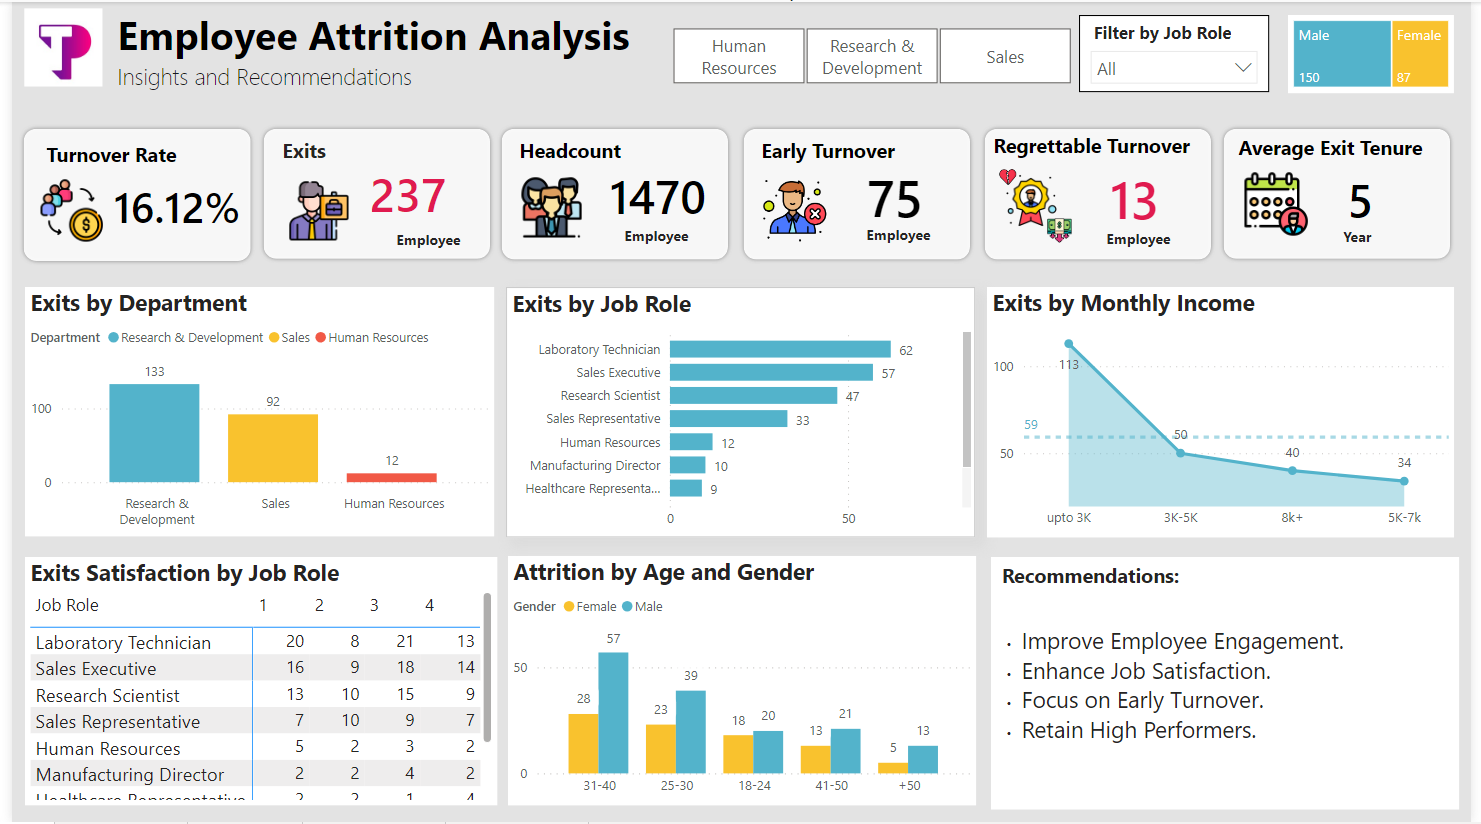

The dashboard page shown, as its layout file describes it:
{"tool":"powerbi","page":{"name":"Home","canvas":[1380,776],"ordinal":0},"visuals":[{"type":"textbox","title":"Title","box":[94.7,0,523.8,70.5],"z":0,"group":"g8"},{"type":"slicer","fields":{"Values":["DimJobs.JobRole"]},"box":[1009.3,12.4,180.3,72.5],"z":0},{"type":"shape","box":[7,115.8,223.6,134],"z":0,"group":"g1"},{"type":"shape","box":[233.7,115.8,223,132],"z":0,"group":"g2"},{"type":"shape","box":[459.3,115.8,223,132.6],"z":0,"group":"g6"},{"type":"shape","box":[687.7,115.8,223,132.6],"z":0,"group":"g4"},{"type":"shape","box":[916,115.8,223,132.6],"z":0,"group":"g5"},{"type":"shape","box":[1142.1,115.8,223,132],"z":0,"group":"g7"},{"type":"image","box":[930.7,153.2,67.3,70.7],"z":0,"group":"g3"},{"type":"textbox","title":"Sub Title","box":[94.7,50.4,346.5,48.4],"z":1000,"group":"g8"},{"type":"card","fields":{"Values":["_Measures.Exits"]},"box":[312.2,138.6,125,85.7],"z":1000,"group":"g2"},{"type":"card","fields":{"Values":["_Measures.Total Employees"]},"box":[549.9,142.2,122.9,81.6],"z":1000,"group":"g6"},{"type":"card","fields":{"Values":["_Measures.Early Turnover"]},"box":[773.6,143.1,122.9,81.6],"z":1000,"group":"g4"},{"type":"card","fields":{"Values":["FactEmployee.Average Tenure of Exited Employees"]},"box":[1212,145.1,127.4,82.3],"z":1000,"group":"g7"},{"type":"card","fields":{"Values":["_Measures.Regrettable Turnover"]},"box":[1010.3,145.2,103.2,80.4],"z":1000,"group":"g5"},{"type":"image","box":[928.9,148.1,26.4,36.8],"z":1000,"group":"g3"},{"type":"card","fields":{"Values":["Measures Table.Turnover Rate"]},"box":[80.3,149.8,153.3,86.8],"z":1000,"group":"g1"},{"type":"columnChart","title":"Exits by Department","fields":{"Y":["_Measures.Exits"],"Series":["DimDepartments.Department"],"Category":["DimDepartments.Department"]},"box":[12.1,270,444.2,235.7],"z":1000},{"type":"textbox","box":[1254.8,208.4,84.6,40.6],"z":1500,"group":"g7"},{"type":"image","box":[7.1,0,83.6,86.6],"z":2000},{"type":"textbox","box":[1155.4,120.3,201.5,40.3],"z":2000,"group":"g7"},{"type":"textbox","box":[475.1,123.6,209.5,46.4],"z":2000,"group":"g6"},{"type":"image","box":[699.8,158.5,81.4,78.5],"z":2000,"group":"g4"},{"type":"image","box":[18.2,163.1,76.2,69],"z":2000,"group":"g1"},{"type":"image","box":[256.1,164.8,68.8,66.2],"z":2000,"group":"g2"},{"type":"image","box":[974.7,198.1,32.6,36.8],"z":2000,"group":"g3"},{"type":"textbox","box":[1030.1,210.5,84.2,40.7],"z":2000,"group":"g5"},{"type":"group","id":"g1","title":"Turnover Group","box":[7,115.8,226.6,134],"z":3000},{"type":"textbox","box":[923.6,119,211.5,45.3],"z":3000,"group":"g5"},{"type":"textbox","box":[250.3,123,134.8,34.8],"z":3000,"group":"g2"},{"type":"textbox","box":[703.5,123.6,209.5,46.4],"z":3000,"group":"g4"},{"type":"textbox","box":[27.5,127,187.5,56.2],"z":3000,"group":"g1"},{"type":"image","box":[475.4,161.2,71,67.2],"z":3000,"group":"g6"},{"type":"image","box":[1157.8,156.6,76.7,69.9],"z":3500,"group":"g7"},{"type":"group","id":"g2","title":"Exits Group","box":[233.7,115.8,222.6,136],"z":4000},{"type":"group","id":"g3","title":"Regrettable Images","box":[928.9,148.1,78.5,87.1],"z":4000,"group":"g5"},{"type":"textbox","box":[802.8,206.6,80.6,41.3],"z":4000,"group":"g4"},{"type":"textbox","box":[574.7,207.6,80.6,41.3],"z":4000,"group":"g6"},{"type":"textbox","box":[358.6,211,81.2,41.2],"z":4000,"group":"g2"},{"type":"group","id":"g4","title":"Early Turnover Group","box":[687.7,115.8,225.3,132.6],"z":5000},{"type":"group","id":"g5","title":"Regrettable Turnover Group","box":[916,115.8,223,135.4],"z":6000},{"type":"barChart","title":"Exits by Job Role","fields":{"Category":["DimJobs.JobRole"],"Y":["_Measures.Exits"]},"box":[467.5,269.7,443.8,236.6],"z":7000},{"type":"slicer","fields":{"Values":["DimDepartments.Department"]},"box":[600.4,18,426.1,61.4],"z":8000},{"type":"treemap","title":"Exits by Gender","fields":{"Values":["_Measures.Exits"],"Group":["DimEmployees.Gender"]},"box":[1207.8,11.9,157.1,73.5],"z":9000},{"type":"lineClusteredColumnComboChart","title":"Attrition by Age and Gender","fields":{"Category":["FactEmployee.Age Clustring"],"Series":["DimEmployees.Gender"],"Y":["_Measures.Exits"]},"box":[469.4,524.6,443.2,235.7],"z":10000},{"type":"group","id":"g6","title":"Headcount Group","box":[459.3,115.8,225.3,133.1],"z":11000},{"type":"textbox","title":"Recommendations","box":[926.8,525.4,443.1,239],"z":12000},{"type":"areaChart","title":"Exits by Monthly Income","fields":{"Category":["FactEmployee.Monthly Income Clustring"],"Y":["_Measures.Exits"]},"box":[922.7,270,442.2,236.7],"z":13000},{"type":"pivotTable","title":"Exits Satisfaction by Job Role","fields":{"Rows":["DimJobs.JobRole"],"Values":["_Measures.Exits"],"Columns":["DimJobs.JobSatisfaction"]},"box":[12.1,525.1,447.2,234.7],"z":14000},{"type":"group","id":"g7","title":"Job Satisfaction Group","box":[1142.1,115.8,227.6,133.2],"z":15000},{"type":"group","id":"g8","title":"Heading","box":[94.7,0,523.8,98.7],"z":16000}]}

Visuals, with their boxes in screenshot pixels (x1, y1, x2, y2), scaled from the page's 1380x776 canvas onto the 1481x824 screenshot:
"Title" textbox: (left=102, top=0, right=664, bottom=75)
slicer - DimJobs.JobRole: (left=1083, top=13, right=1277, bottom=90)
shape: (left=8, top=123, right=247, bottom=265)
shape: (left=251, top=123, right=490, bottom=263)
shape: (left=493, top=123, right=732, bottom=264)
shape: (left=738, top=123, right=977, bottom=264)
shape: (left=983, top=123, right=1222, bottom=264)
shape: (left=1226, top=123, right=1465, bottom=263)
image: (left=999, top=163, right=1071, bottom=238)
"Sub Title" textbox: (left=102, top=54, right=473, bottom=105)
card - _Measures.Exits: (left=335, top=147, right=469, bottom=238)
card - _Measures.Total Employees: (left=590, top=151, right=722, bottom=238)
card - _Measures.Early Turnover: (left=830, top=152, right=962, bottom=239)
card - FactEmployee.Average Tenure of Exited Employees: (left=1301, top=154, right=1437, bottom=241)
card - _Measures.Regrettable Turnover: (left=1084, top=154, right=1195, bottom=240)
image: (left=997, top=157, right=1025, bottom=196)
card - Measures Table.Turnover Rate: (left=86, top=159, right=251, bottom=251)
"Exits by Department" columnChart: (left=13, top=287, right=490, bottom=537)
textbox: (left=1347, top=221, right=1437, bottom=264)
image: (left=8, top=0, right=97, bottom=92)
textbox: (left=1240, top=128, right=1456, bottom=171)
textbox: (left=510, top=131, right=735, bottom=181)
image: (left=751, top=168, right=838, bottom=252)
image: (left=20, top=173, right=101, bottom=246)
image: (left=275, top=175, right=349, bottom=245)
image: (left=1046, top=210, right=1081, bottom=249)
textbox: (left=1105, top=224, right=1196, bottom=267)
"Turnover Group" group: (left=8, top=123, right=251, bottom=265)
textbox: (left=991, top=126, right=1218, bottom=174)
textbox: (left=269, top=131, right=413, bottom=168)
textbox: (left=755, top=131, right=980, bottom=181)
textbox: (left=30, top=135, right=231, bottom=195)
image: (left=510, top=171, right=586, bottom=243)
image: (left=1243, top=166, right=1325, bottom=241)
"Exits Group" group: (left=251, top=123, right=490, bottom=267)
"Regrettable Images" group: (left=997, top=157, right=1081, bottom=250)
textbox: (left=862, top=219, right=948, bottom=263)
textbox: (left=617, top=220, right=703, bottom=264)
textbox: (left=385, top=224, right=472, bottom=268)
"Early Turnover Group" group: (left=738, top=123, right=980, bottom=264)
"Regrettable Turnover Group" group: (left=983, top=123, right=1222, bottom=267)
"Exits by Job Role" barChart: (left=502, top=286, right=978, bottom=538)
slicer - DimDepartments.Department: (left=644, top=19, right=1102, bottom=84)
"Exits by Gender" treemap: (left=1296, top=13, right=1465, bottom=91)
"Attrition by Age and Gender" lineClusteredColumnComboChart: (left=504, top=557, right=979, bottom=807)
"Headcount Group" group: (left=493, top=123, right=735, bottom=264)
"Recommendations" textbox: (left=995, top=558, right=1470, bottom=812)
"Exits by Monthly Income" areaChart: (left=990, top=287, right=1465, bottom=538)
"Exits Satisfaction by Job Role" pivotTable: (left=13, top=558, right=493, bottom=807)
"Job Satisfaction Group" group: (left=1226, top=123, right=1470, bottom=264)
"Heading" group: (left=102, top=0, right=664, bottom=105)
